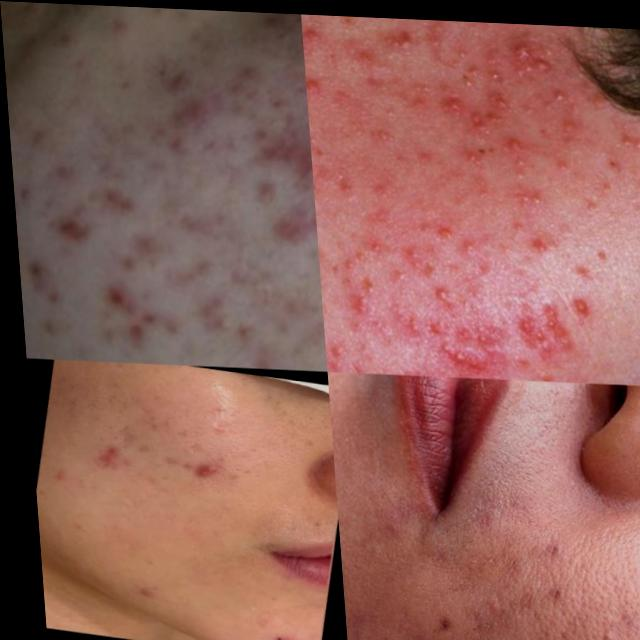8: (391, 226, 432, 269), (334, 286, 380, 315), (301, 11, 334, 46), (321, 334, 354, 369), (521, 223, 549, 255), (513, 354, 552, 376), (412, 358, 455, 373), (305, 76, 322, 101)
9: (497, 35, 553, 86), (497, 143, 534, 183), (381, 17, 416, 55), (546, 71, 578, 103), (611, 119, 640, 152), (534, 293, 560, 329), (423, 272, 452, 301), (455, 137, 488, 162), (434, 89, 467, 114), (428, 207, 456, 236), (561, 290, 598, 311), (449, 32, 472, 59), (452, 67, 475, 89), (259, 631, 296, 640)
blackheads: (239, 101, 311, 182), (447, 308, 512, 342), (76, 435, 126, 470), (429, 335, 482, 367), (181, 450, 226, 484)
